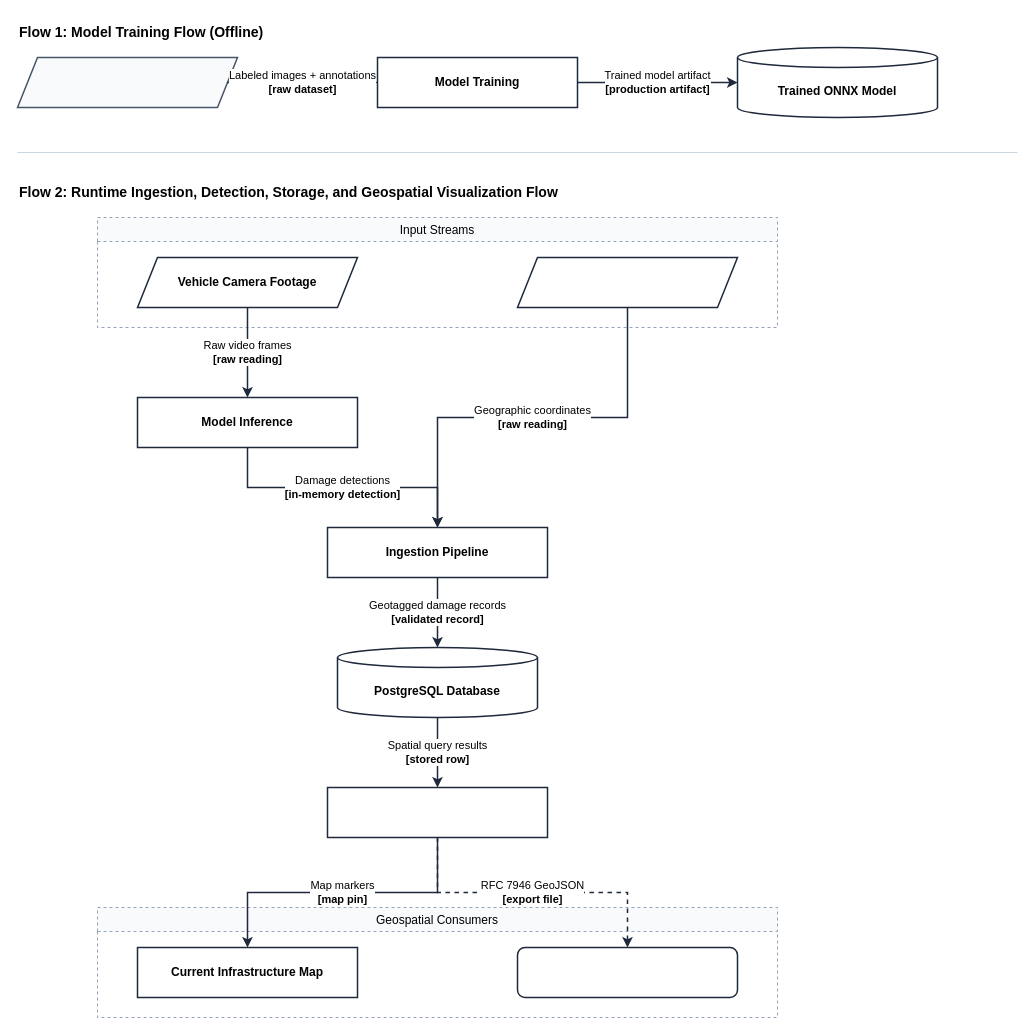
Image size: 1036x1035. Some labels were removed from this diagram. Here are the shapes that lost their labels. From the top down, the centre of each, then its label:
point (127, 82): Labeled Training Data
point (627, 282): GPS Location Stream
point (437, 812): Backend API
point (627, 972): City Systems / Municipal GIS
